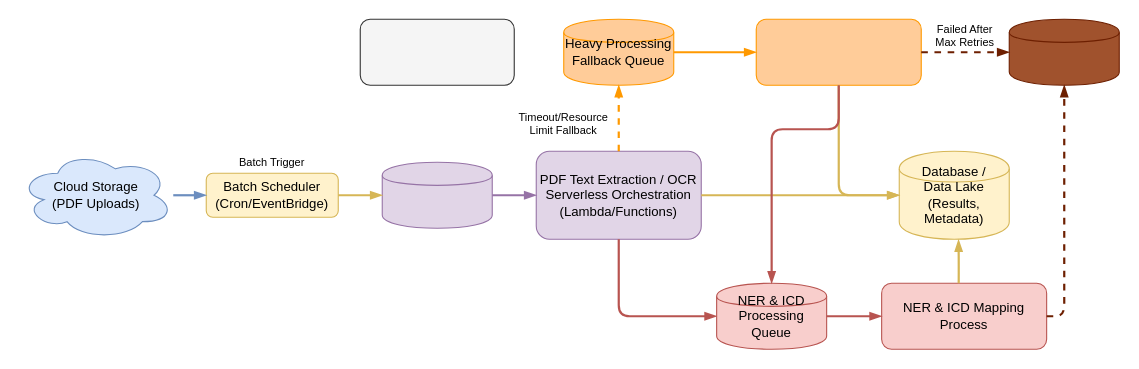
The diagram is 1139 pixels wide and 369 high, and some of its shapes have lost their labels. Each missing label, with the centre of its shape:
"Container Instance (Heavy Processing)" goes at point (838, 51).
"Dead Letter Queue (Failed Processing)" goes at point (1063, 51).
"Monitoring & Logging (CloudWatch/Azure Monitor)" goes at point (436, 51).
"Primary Processing Queue" goes at point (436, 194).
